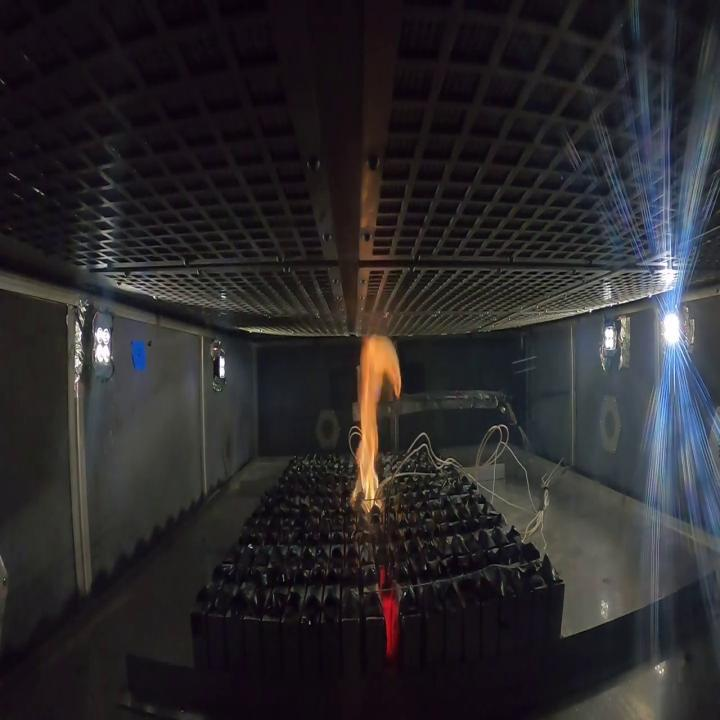fire: (352, 334, 406, 514)
